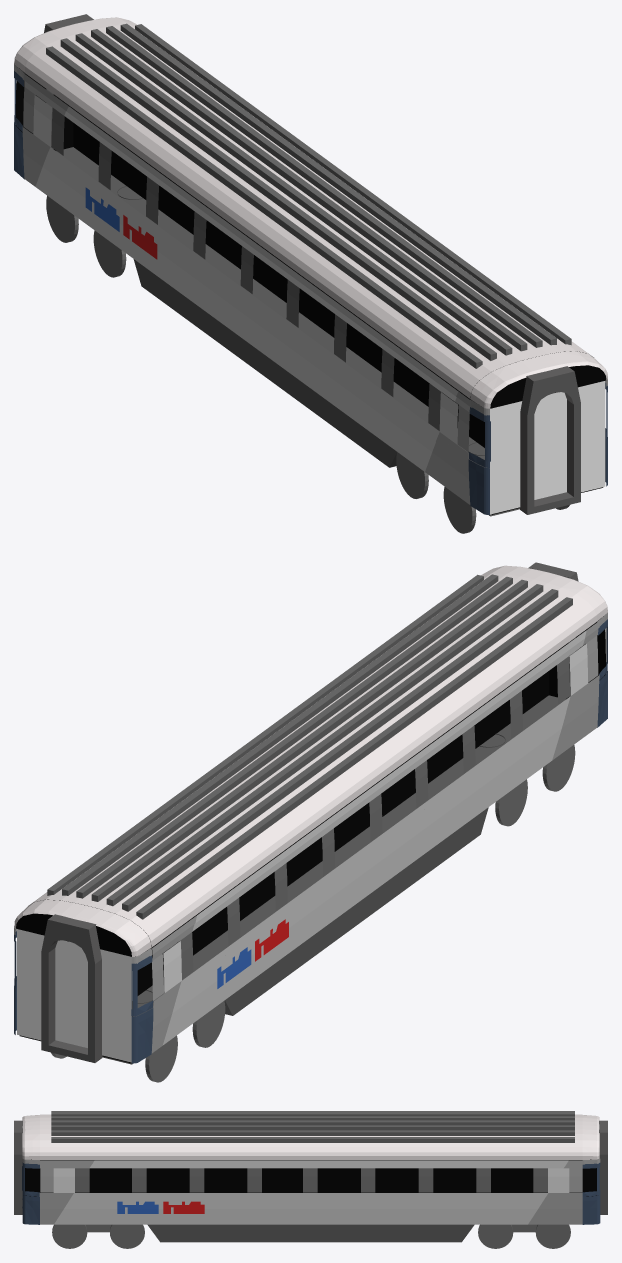
3 renders of one model, top to bottom at view 1: azimuth 30°, elevation 25°; view 2: azimuth 150°, elevation 25°; view 3: azimuth 270°, elevation 25°, orthographic. The views are drawn at different scales.
Visible parts, largest first — view 1: Suzanne_001, Plane_007, Plane_001, Plane_111, Cube_010, Cube, Cube_011, Cube_008, Cube_009, Cube_004, Plane_002, Cube_002 (+15 smaller); view 2: Suzanne_001, Plane_007, Plane_100, Plane_111, Cube, Cube_010, Cube_011, Cube_008, Cube_009, Cube_004, Plane_002, Cube_002 (+15 smaller); view 3: Plane_134, Suzanne_001, Plane_111, Cube, Cube_002, Cube_003, Cube_004, Cube_008, Plane_135, Plane_136, Cube_009, Cube_010 (+30 smaller).
Part boxes in pixels (left/top/right/bottom): Suzanne_001: left=24, top=24, right=593, bottom=398; Plane_007: left=23, top=140, right=470, bottom=504; Plane_001: left=490, top=381, right=605, bottom=514; Plane_111: left=73, top=109, right=484, bottom=447; Cube_010: left=60, top=38, right=496, bottom=360; Cube: left=133, top=259, right=396, bottom=467; Cube_011: left=46, top=46, right=482, bottom=368; Cube_008: left=91, top=29, right=527, bottom=351; Cube_009: left=75, top=33, right=512, bottom=355; Cube_004: left=106, top=26, right=542, bottom=347; Plane_002: left=56, top=147, right=489, bottom=468; Cube_002: left=120, top=23, right=556, bottom=345; Suzanne_001: left=28, top=573, right=596, bottom=947; Plane_007: left=151, top=688, right=598, bottom=1053; Plane_100: left=17, top=929, right=132, bottom=1062; Plane_111: left=135, top=657, right=548, bottom=995; Cube: left=224, top=807, right=488, bottom=1015; Cube_010: left=122, top=589, right=558, bottom=911; Cube_011: left=136, top=597, right=572, bottom=919; Cube_008: left=91, top=579, right=527, bottom=901; Cube_009: left=106, top=584, right=543, bottom=906; Cube_004: left=76, top=576, right=512, bottom=898; Plane_002: left=133, top=695, right=565, bottom=1016; Cube_002: left=62, top=574, right=498, bottom=895; Plane_134: left=40, top=1201, right=582, bottom=1224; Suzanne_001: left=40, top=1114, right=582, bottom=1159; Plane_111: left=25, top=1159, right=596, bottom=1196; Cube: left=147, top=1224, right=474, bottom=1242; Cube_002: left=51, top=1130, right=574, bottom=1135; Cube_003: left=51, top=1137, right=574, bottom=1142; Cube_004: left=51, top=1125, right=574, bottom=1130; Cube_008: left=51, top=1120, right=574, bottom=1125; Plane_135: left=40, top=1160, right=584, bottom=1164; Plane_136: left=40, top=1164, right=582, bottom=1168; Cube_009: left=51, top=1116, right=574, bottom=1120; Cube_010: left=51, top=1112, right=574, bottom=1116.
Bounding box in the file's own units: 2.08 × 13.39 × 2.81.
